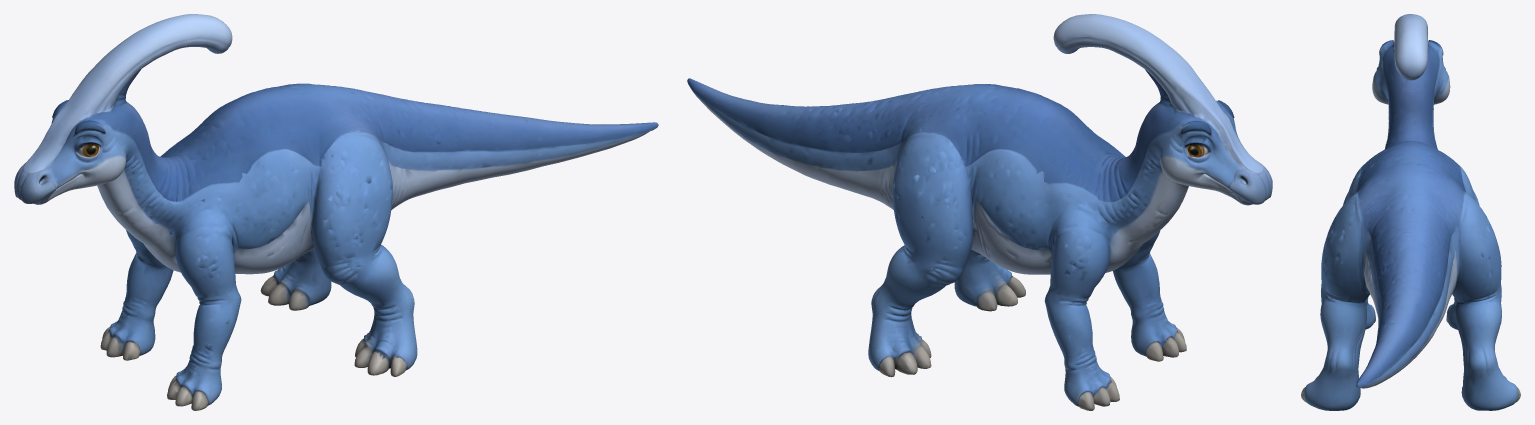
File: parasaurolophus-parts.glb
3 views of the same model, side by side, from view 1: azimuth 30°, elevation 25°; view 2: azimuth 150°, elevation 25°; view 3: azimuth 270°, elevation 25° (orthographic). The views are drawn at different scales.
Parts seen in each view (by area): view 1: tripo_part_0, tripo_part_1, tripo_part_3, tripo_part_4, tripo_part_5, tripo_part_6, tripo_part_7, tripo_part_2, tripo_part_8, tripo_part_9; view 2: tripo_part_0, tripo_part_2, tripo_part_1, tripo_part_4, tripo_part_7, tripo_part_6, tripo_part_5, tripo_part_3, tripo_part_8, tripo_part_9; view 3: tripo_part_1, tripo_part_3, tripo_part_2, tripo_part_0, tripo_part_4, tripo_part_6, tripo_part_10, tripo_part_7, tripo_part_5.
Part boxes in pixels (x1=…): tripo_part_0: x1=110, y1=83, x2=379, y2=274; tripo_part_1: x1=342, y1=87, x2=658, y2=209; tripo_part_3: x1=310, y1=128, x2=417, y2=369; tripo_part_4: x1=14, y1=100, x2=150, y2=218; tripo_part_5: x1=167, y1=209, x2=241, y2=410; tripo_part_6: x1=67, y1=14, x2=232, y2=119; tripo_part_7: x1=108, y1=230, x2=173, y2=355; tripo_part_2: x1=260, y1=249, x2=331, y2=310; tripo_part_8: x1=354, y1=338, x2=407, y2=376; tripo_part_9: x1=100, y1=327, x2=140, y2=360; tripo_part_0: x1=904, y1=84, x2=1175, y2=274; tripo_part_2: x1=868, y1=132, x2=973, y2=377; tripo_part_1: x1=687, y1=78, x2=941, y2=209; tripo_part_4: x1=1136, y1=100, x2=1272, y2=218; tripo_part_7: x1=1044, y1=209, x2=1110, y2=406; tripo_part_6: x1=1053, y1=14, x2=1220, y2=118; tripo_part_5: x1=1113, y1=230, x2=1186, y2=361; tripo_part_3: x1=954, y1=249, x2=1012, y2=306; tripo_part_8: x1=975, y1=275, x2=1025, y2=311; tripo_part_9: x1=1078, y1=376, x2=1119, y2=410; tripo_part_1: x1=1356, y1=194, x2=1459, y2=388; tripo_part_3: x1=1304, y1=192, x2=1369, y2=410; tripo_part_2: x1=1452, y1=192, x2=1520, y2=410; tripo_part_0: x1=1345, y1=107, x2=1476, y2=228; tripo_part_4: x1=1372, y1=40, x2=1450, y2=129; tripo_part_6: x1=1394, y1=14, x2=1427, y2=80; tripo_part_10: x1=1396, y1=178, x2=1424, y2=198; tripo_part_7: x1=1446, y1=190, x2=1479, y2=329; tripo_part_5: x1=1343, y1=192, x2=1375, y2=329.
Size of the model in its own units: 0.9793 by 0.5397 by 0.3489.
Materials: 1 (1 with a texture image).
